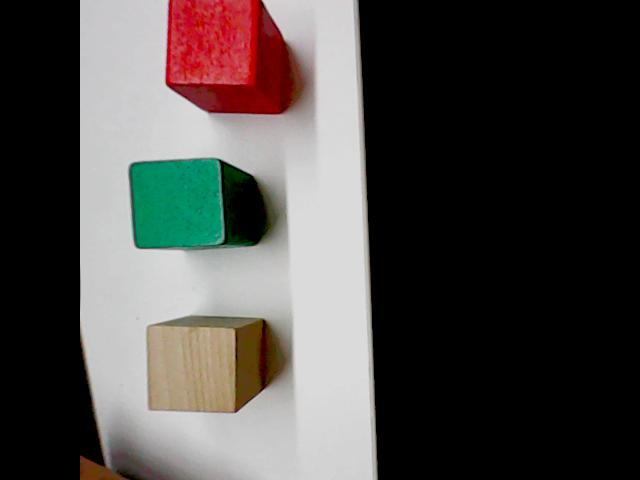green_box: (124, 154, 260, 253)
raw_box: (142, 313, 268, 416)
red_box: (159, 0, 288, 117)
